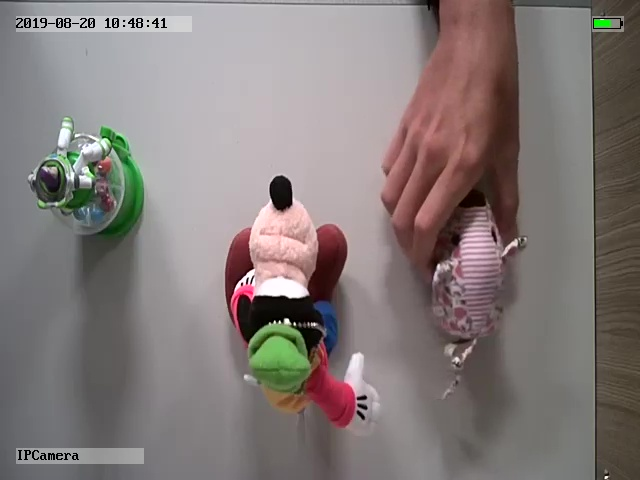buzz: (26, 114, 146, 239)
goofy: (223, 174, 381, 438)
pig: (427, 189, 529, 400)
